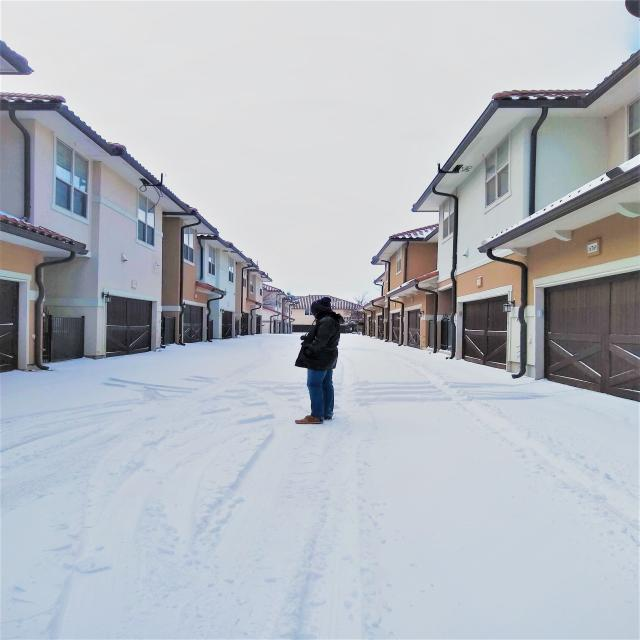standing: (289, 293, 347, 427)
